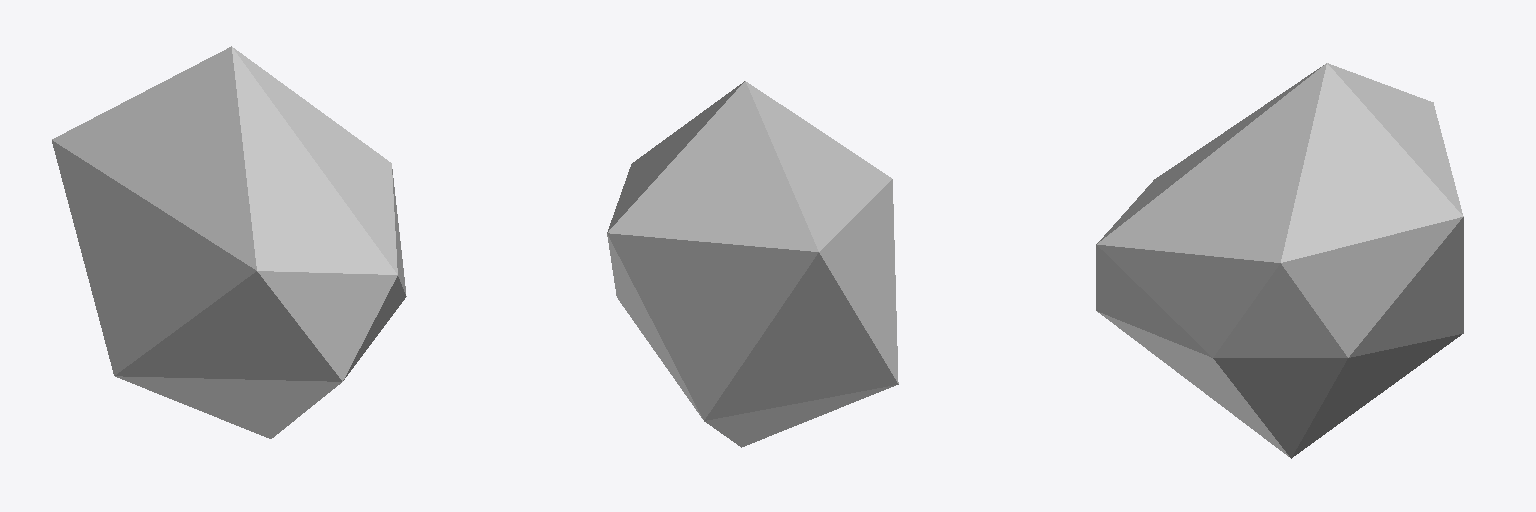
Rendered from meteorChunk.obj.
3 renders of one model, left to right at view 1: azimuth 30°, elevation 25°; view 2: azimuth 150°, elevation 25°; view 3: azimuth 270°, elevation 25°, orthographic.
Visible parts, largest first — view 1: Icosphere; view 2: Icosphere; view 3: Icosphere.
Boxes of the visible parts, box(x1,y1,x2,y2) form: Icosphere: box(52, 46, 406, 438); Icosphere: box(607, 81, 898, 447); Icosphere: box(1096, 63, 1463, 458).
Bounding box in the file's own units: 1.54 × 2.08 × 1.79.